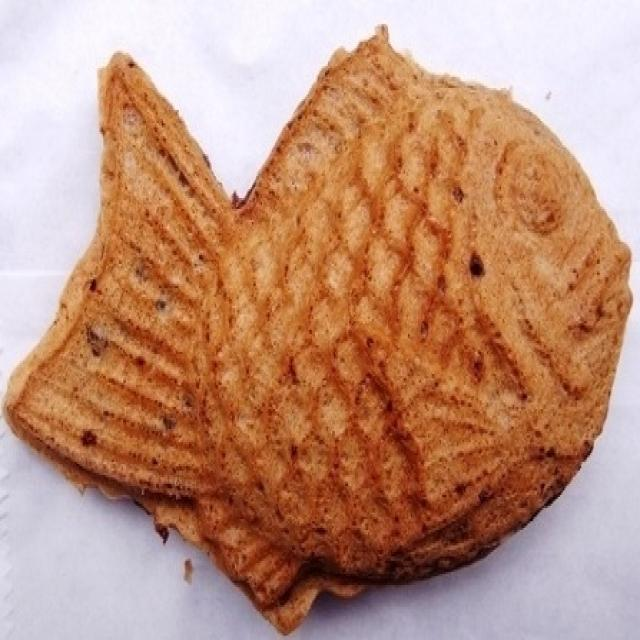熟制海鲜: (0, 13, 640, 636)
